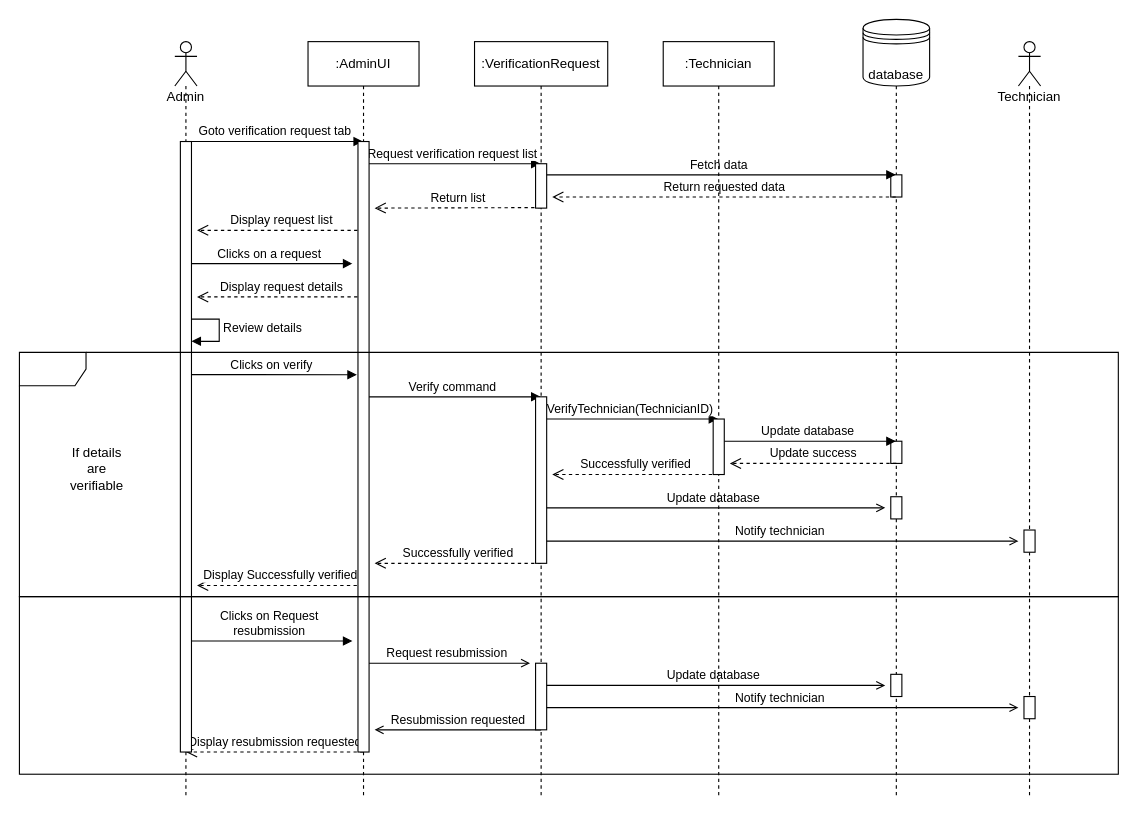
Image size: 1138x816. Some labels were removed from this diagram. Each missing label, with the box of its shape:
Alt: (18, 351, 1118, 597)
Else: (18, 596, 1118, 774)
